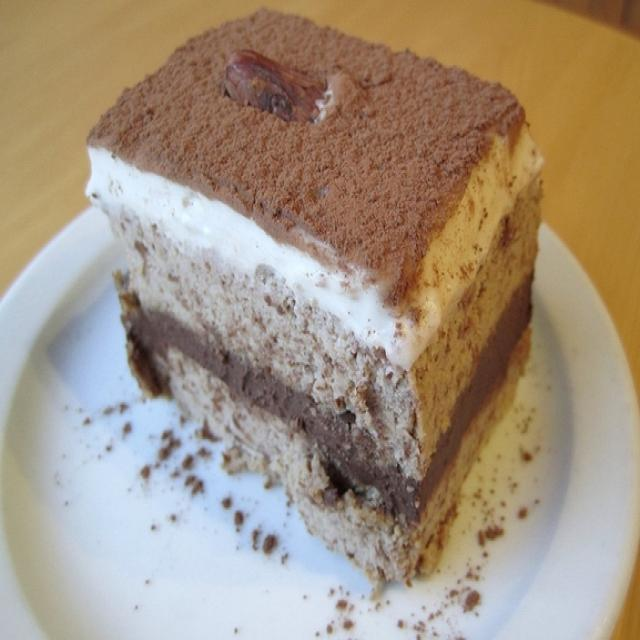蛋糕甜品: (20, 4, 618, 624)
